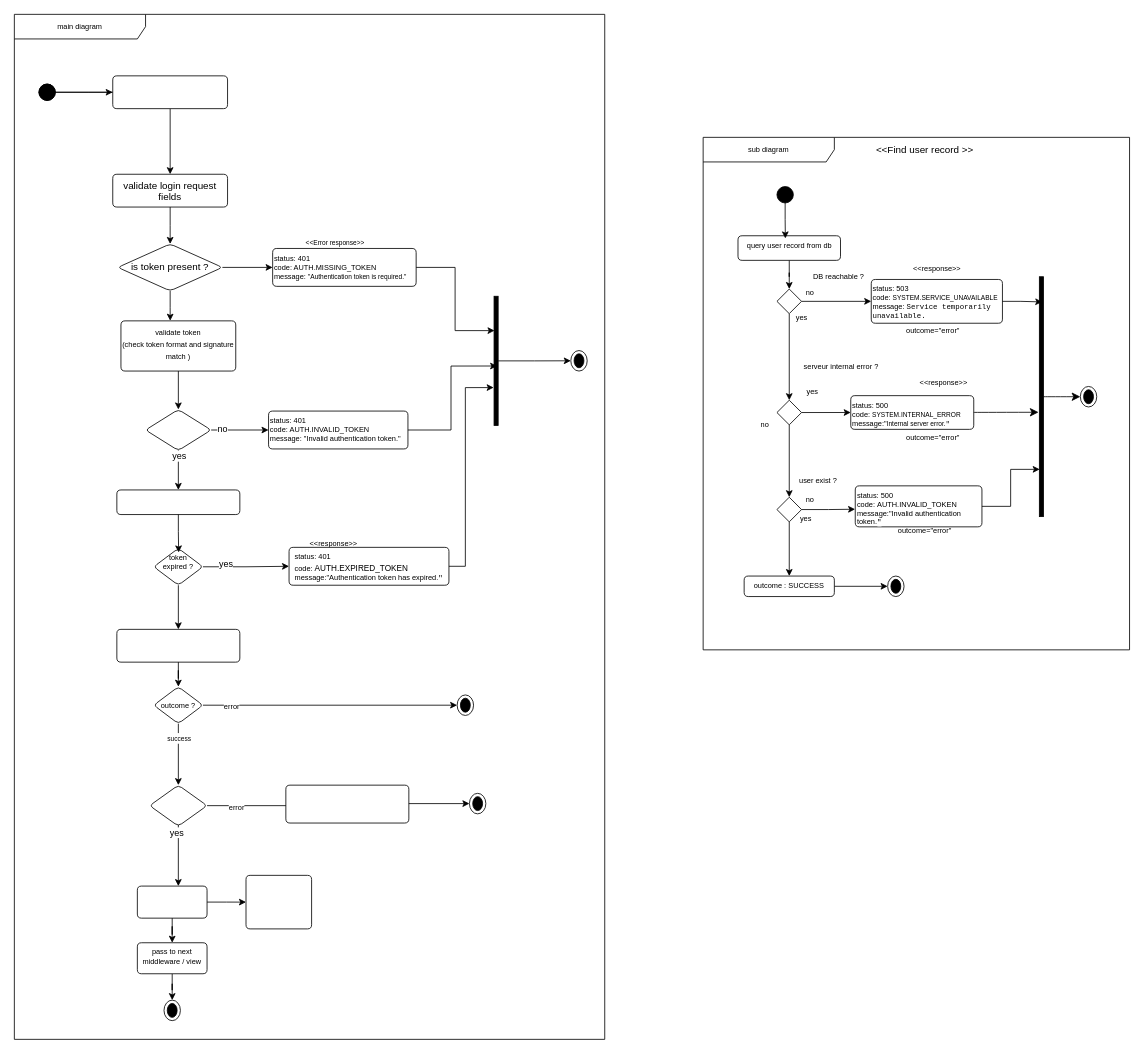
The diagram is 1144 pixels wide and 1054 high, and some of its shapes have lost their labels. The shapes that lost their labels are listed below. From the top down, each one's centre as x and y in pixels, then its label:
point 170,92: recive request
point 178,430: is token valide ?
point 178,502: chek expiration
point 178,645: <<sub diagramme>> find user record
point 178,805: is user active ?
point 347,803: status: 403 code: AUTH.USER_INACTIVE message:"Access denied. "
point 172,901: attach user object into the request
point 278,902: request.user = { id email role }
